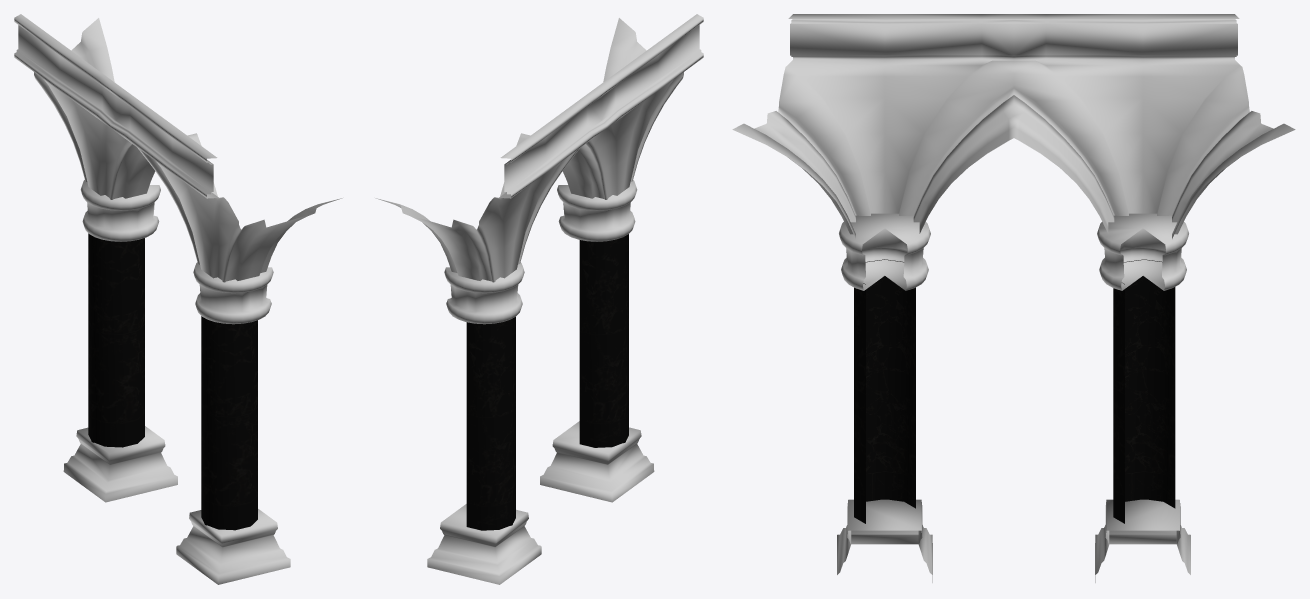
File: SM_Column_Dome_02.FBX
The picture shows the model from 3 angles, left to right: view 1: azimuth 30°, elevation 25°; view 2: azimuth 150°, elevation 25°; view 3: azimuth 270°, elevation 25°; orthographic projection. The views are drawn at different scales.
Parts seen in each view (by area): view 1: SM_Column_Dome_02; view 2: SM_Column_Dome_02; view 3: SM_Column_Dome_02.
Boxes of the visible parts, box(x1,y1,x2,y2) form: SM_Column_Dome_02: box(14, 14, 342, 584); SM_Column_Dome_02: box(375, 14, 703, 584); SM_Column_Dome_02: box(732, 14, 1295, 582).
Size of what is drawn, in the model's own units: 284 by 1088 by 1093.
